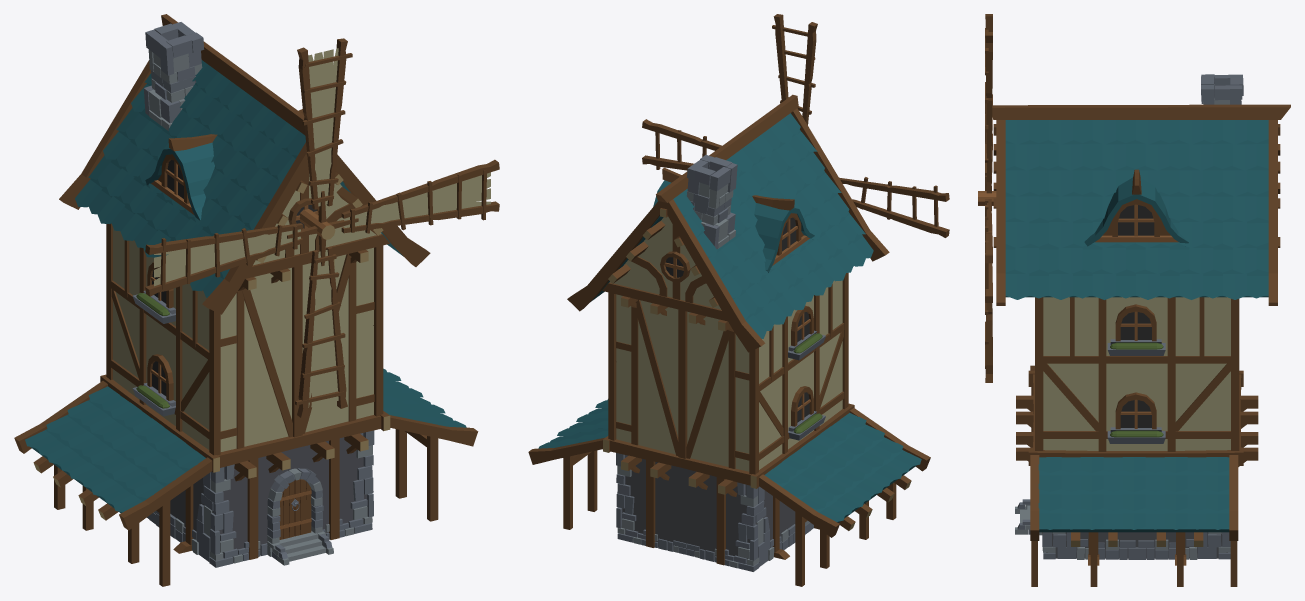
Rendered from Mill.gltf.
The picture shows the model from 3 angles, left to right: view 1: azimuth 30°, elevation 25°; view 2: azimuth 150°, elevation 25°; view 3: azimuth 270°, elevation 25°; orthographic projection. The views are drawn at different scales.
Visible parts, largest first — view 1: Mill; view 2: Mill; view 3: Mill.
Part boxes in pixels (x1=…): Mill: x1=14, y1=14, x2=499, y2=586; Mill: x1=528, y1=14, x2=949, y2=586; Mill: x1=978, y1=14, x2=1290, y2=586.
Size of the model in its own units: 3.4 by 4.8 by 2.73.
